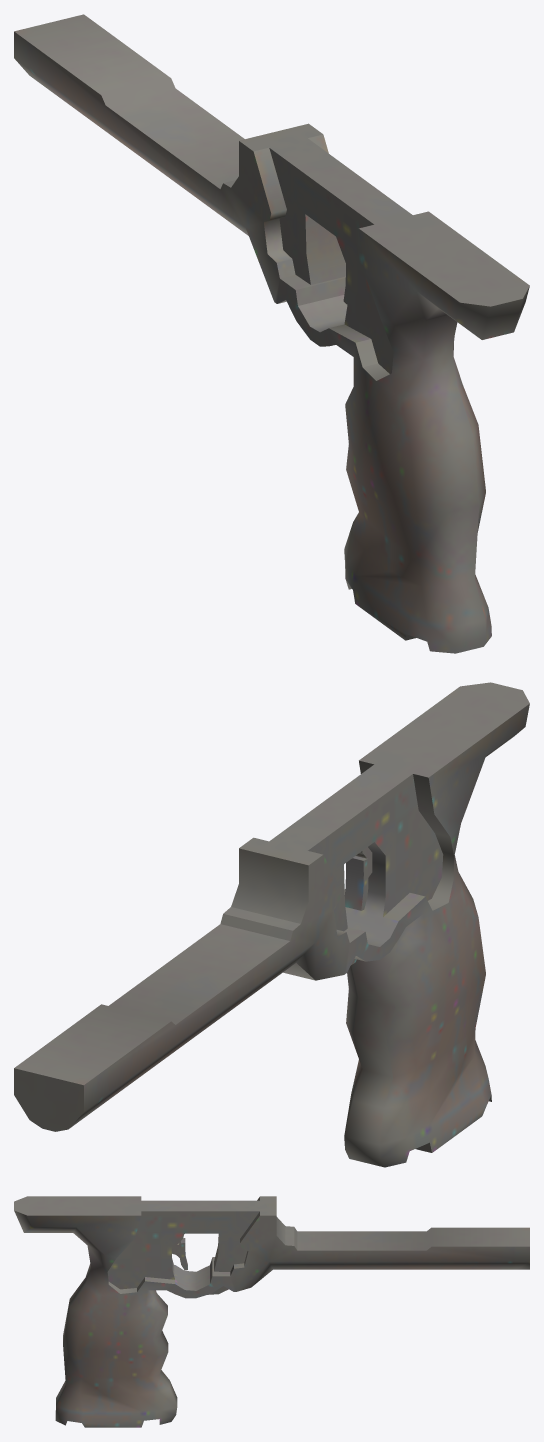
Rendered from grip4.obj.
3 views of the same model, one above another, from view 1: azimuth 30°, elevation 25°; view 2: azimuth 150°, elevation 25°; view 3: azimuth 270°, elevation 25° (orthographic). The views are drawn at different scales.
Parts seen in each view (by area): view 1: grip4; view 2: grip4; view 3: grip4.
Boxes of the visible parts, box(x1,y1,x2,y2) form: grip4: box(14, 14, 529, 653); grip4: box(14, 682, 529, 1167); grip4: box(14, 1196, 529, 1427).
Bounding box in the file's own units: 4 × 16.92 × 37.49.
